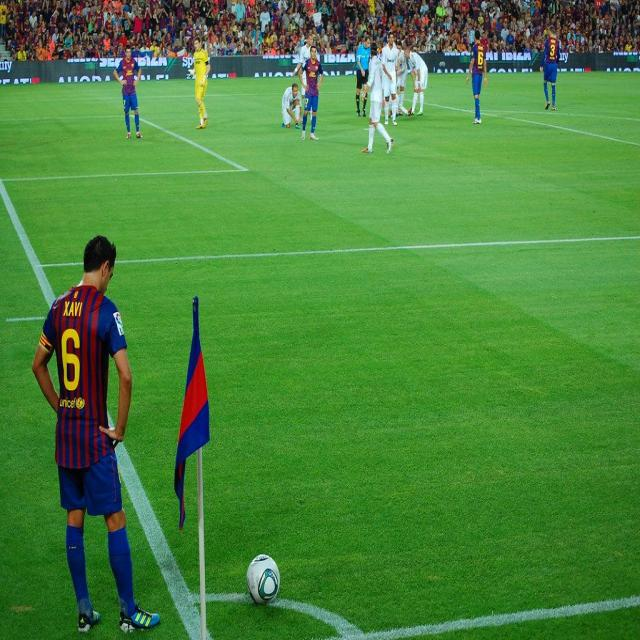corner-kick: (150, 289, 372, 640)
